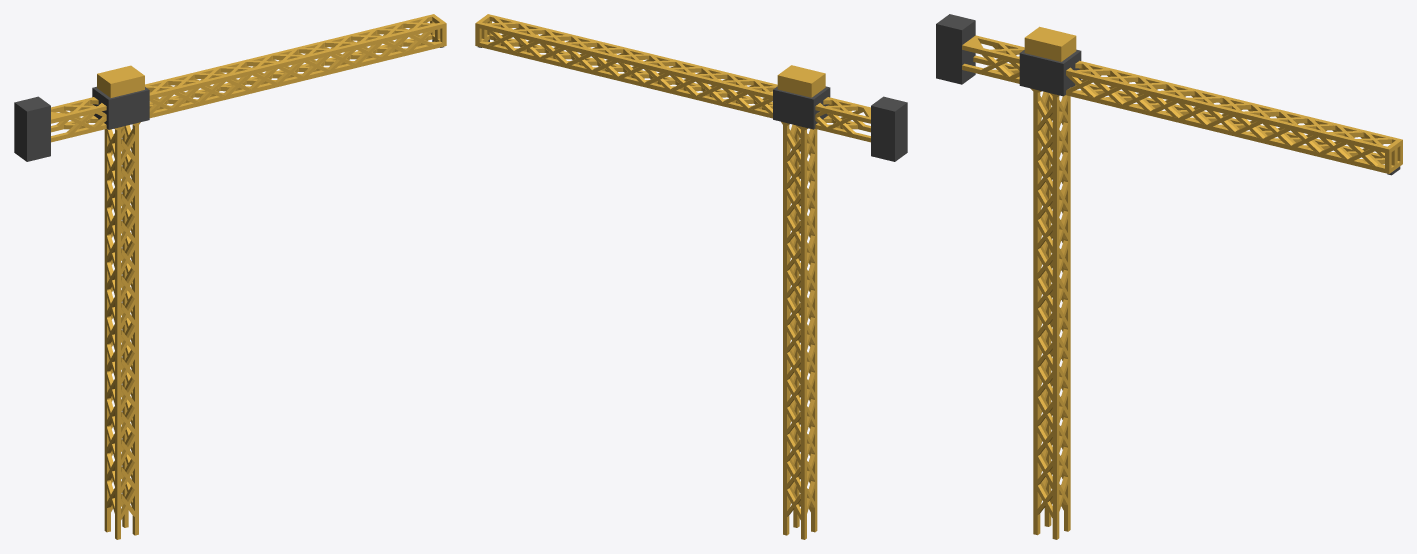
Rendered from crane.gltf.
3 renders of one model, left to right at view 1: azimuth 30°, elevation 25°; view 2: azimuth 150°, elevation 25°; view 3: azimuth 330°, elevation 25°, orthographic. The views are drawn at different scales.
Visible parts, largest first — view 1: Tower; view 2: Tower; view 3: Tower.
Boxes of the visible parts, box(x1,y1,x2,y2) form: Tower: box(14, 14, 446, 539); Tower: box(475, 14, 907, 539); Tower: box(936, 14, 1402, 539).
Size of the model in its own units: 94.15 by 98.33 by 6.45.
